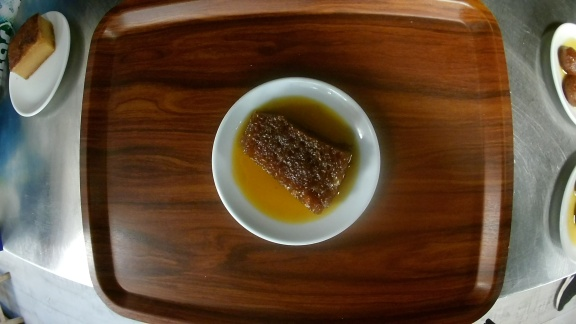ekmekkadayifi: (211, 76, 381, 247)
